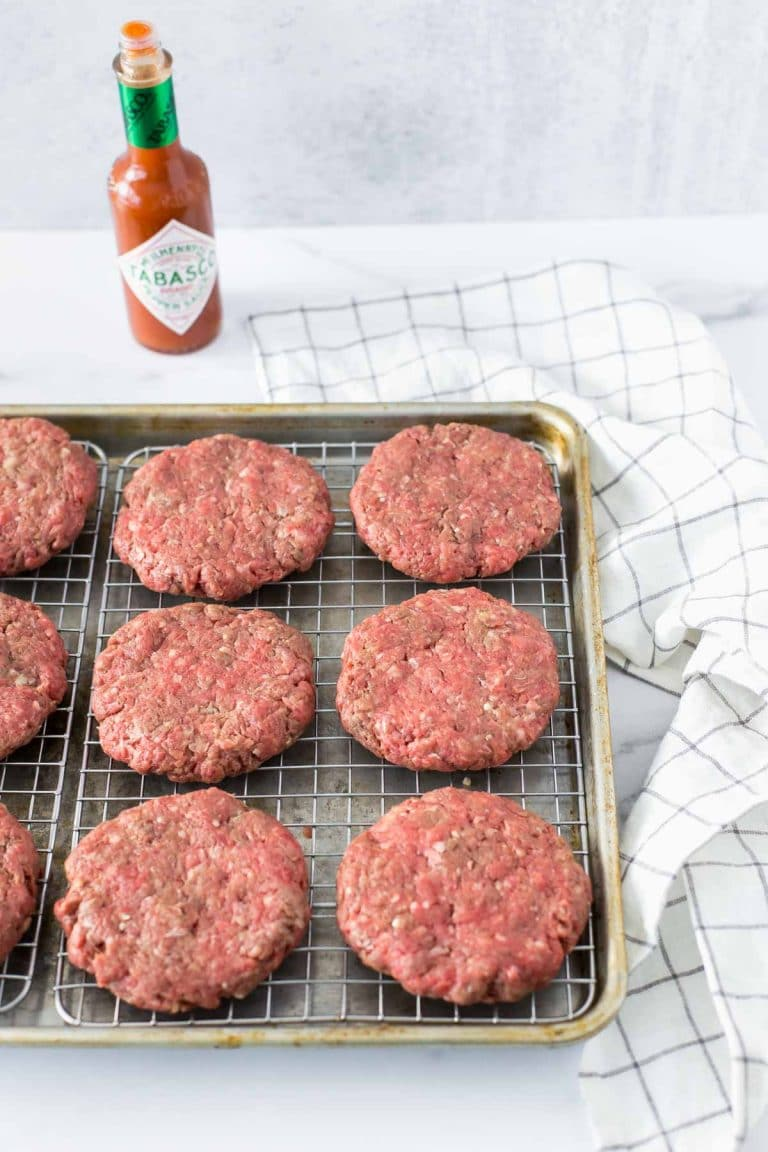ground_beef: (36, 781, 324, 1021), (350, 783, 583, 1015), (333, 417, 548, 627), (355, 571, 557, 770), (99, 417, 306, 593), (99, 596, 308, 768), (1, 421, 108, 556)
